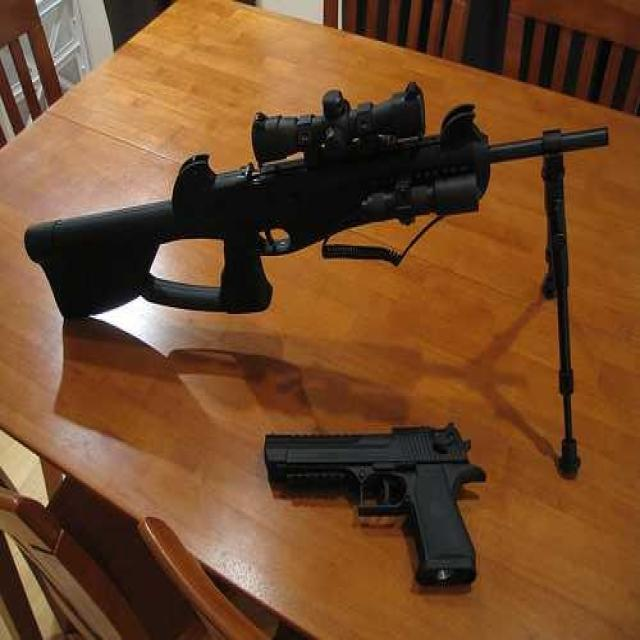RifleTel: (14, 79, 616, 329)
